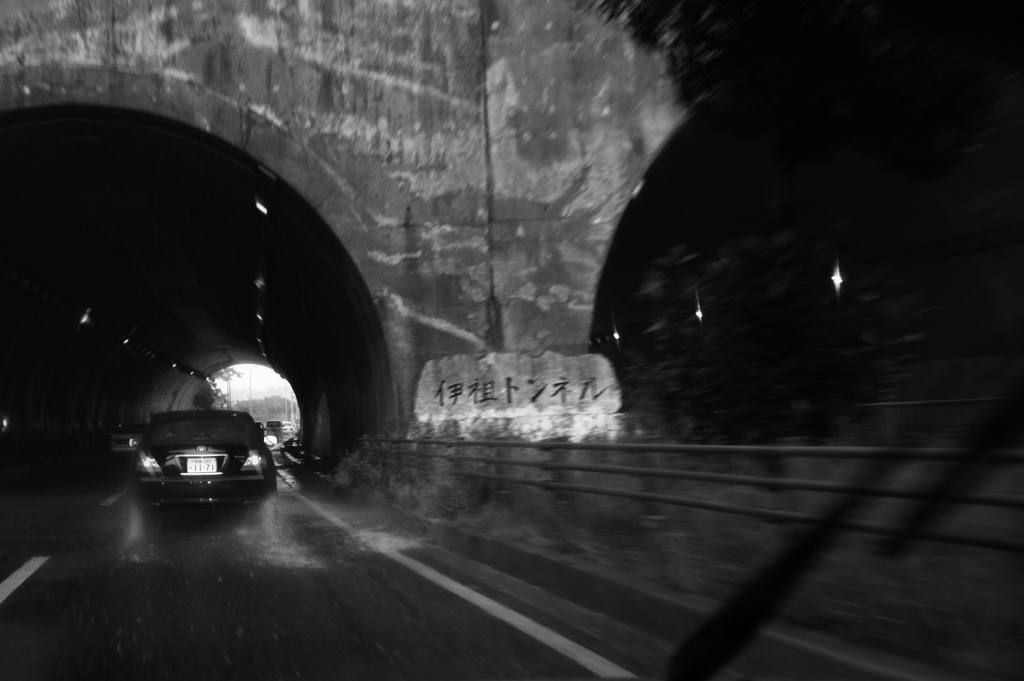Car: (118, 402, 269, 510)
